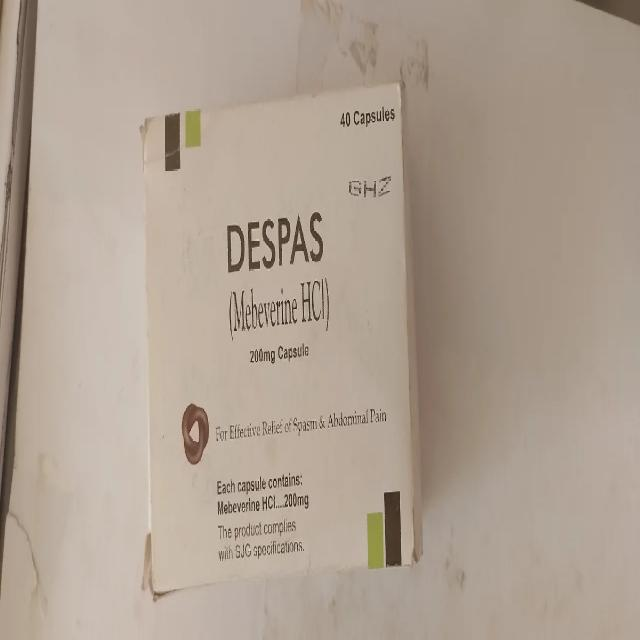drug-name: (223, 211, 327, 275)
